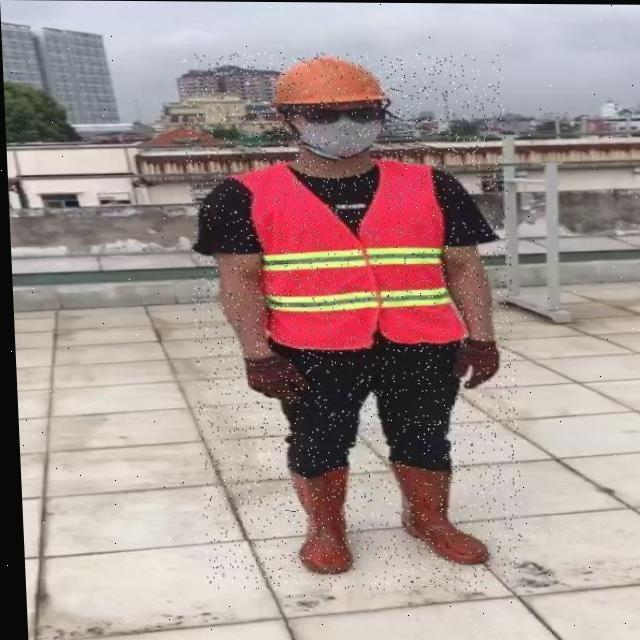Gloves: (240, 350, 308, 400), (450, 336, 497, 388)
Safety-Boot: (386, 458, 484, 563), (284, 459, 348, 573)
Safety-Vest: (223, 156, 465, 351)
